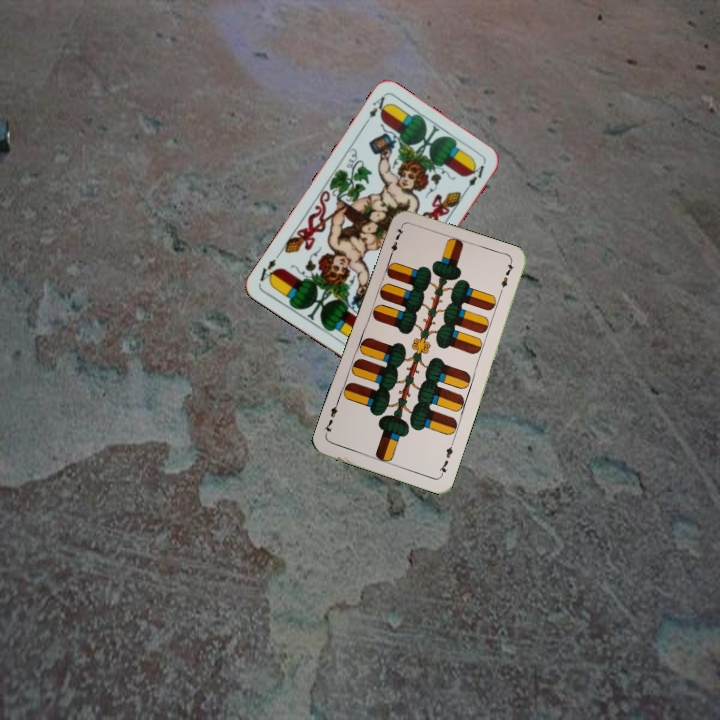E7: (435, 439, 456, 478), (385, 223, 406, 262)
EA: (360, 92, 390, 128)
